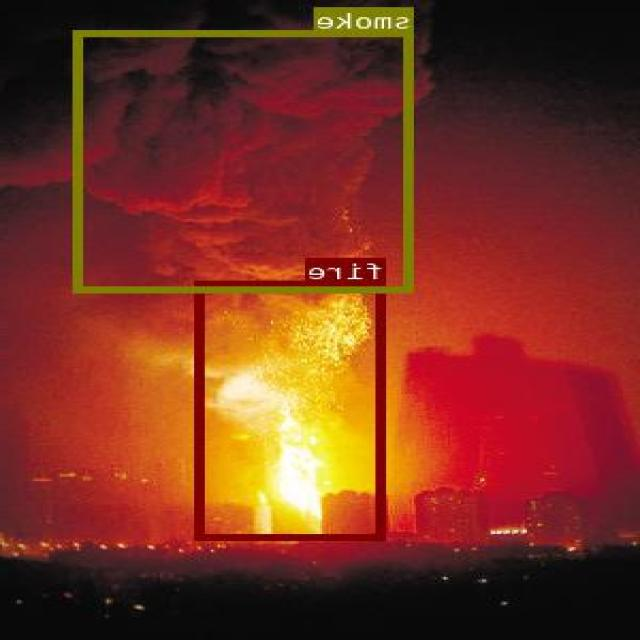fire: (198, 279, 386, 539)
smoke: (76, 29, 415, 291)
